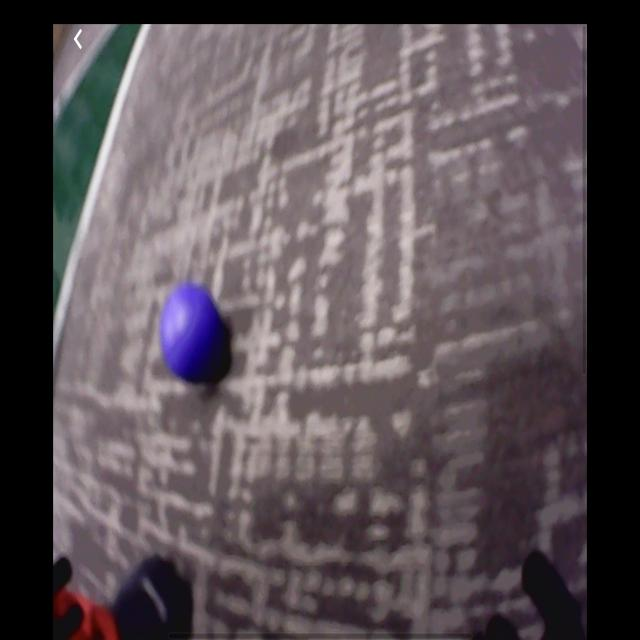ball: (160, 283, 223, 377)
